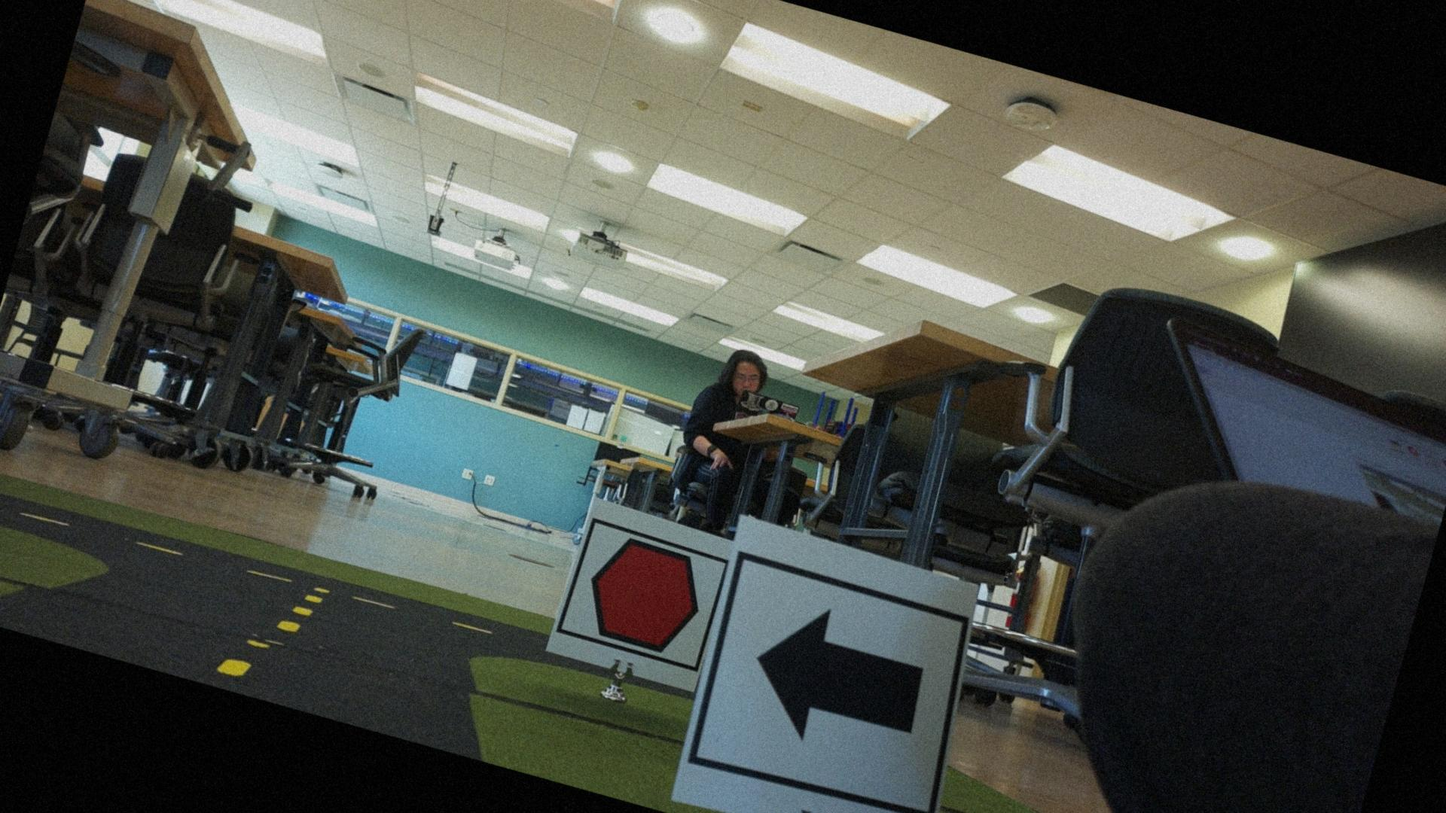stop: (563, 525, 725, 671)
turnright: (684, 559, 970, 812)
yellowline: (217, 576, 324, 698)
